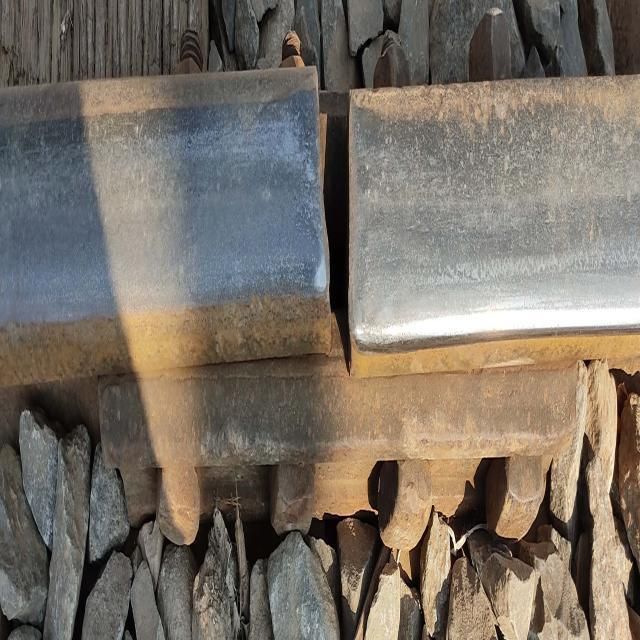broken_rail_medium: (304, 68, 366, 366)
